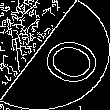O_NW: (15, 23, 95, 87)
